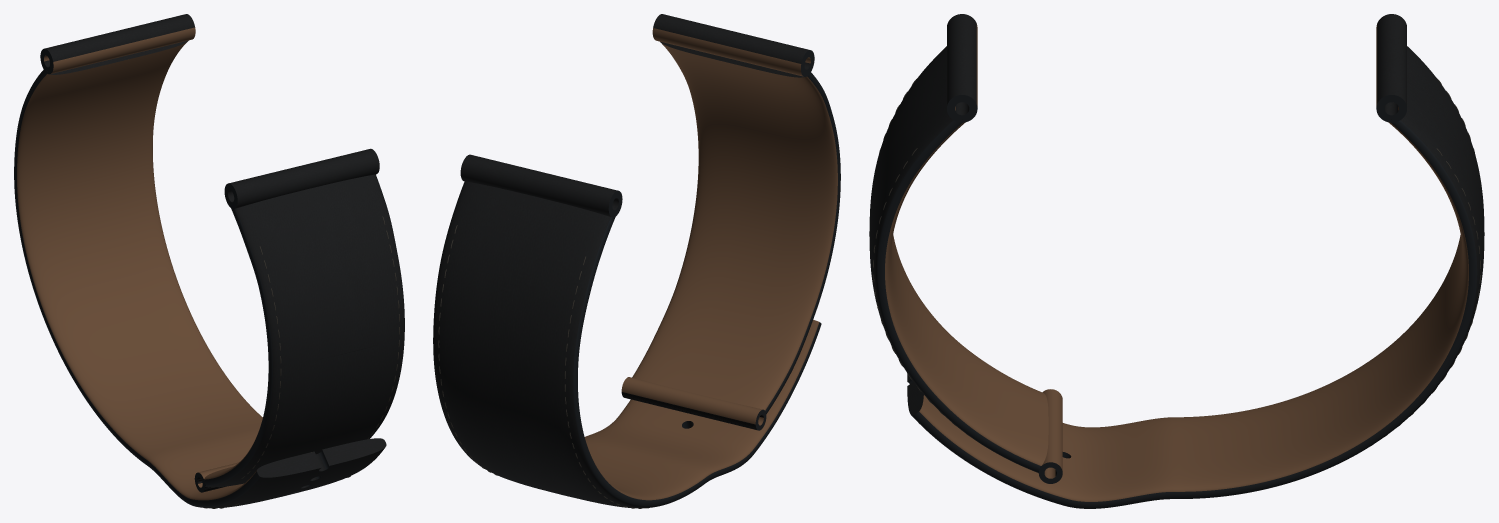
The model's file is leather-craft-r09.glb.
The picture shows the model from 3 angles, left to right: view 1: azimuth 30°, elevation 25°; view 2: azimuth 150°, elevation 25°; view 3: azimuth 270°, elevation 25°; orthographic projection. The views are drawn at different scales.
Visible parts, largest first — view 1: R05 / Upper strap · solid padded band and rolled end, R05 / Lower strap · solid padded band and rolled end, R05 / STRAP-LOWER seated stitches; view 2: R05 / Upper strap · solid padded band and rolled end, R05 / Lower strap · solid padded band and rolled end, R05 / STRAP-UPPER seated stitches; view 3: R05 / Upper strap · solid padded band and rolled end, R05 / Lower strap · solid padded band and rolled end.
Part boxes in pixels (x1,y1,x2,y2): R05 / Upper strap · solid padded band and rolled end: (14, 14, 386, 508); R05 / Lower strap · solid padded band and rolled end: (194, 148, 404, 492); R05 / STRAP-LOWER seated stitches: (241, 216, 399, 478); R05 / Upper strap · solid padded band and rolled end: (433, 154, 821, 508); R05 / Lower strap · solid padded band and rolled end: (621, 14, 840, 430); R05 / STRAP-UPPER seated stitches: (438, 225, 648, 508); R05 / Upper strap · solid padded band and rolled end: (907, 14, 1484, 508); R05 / Lower strap · solid padded band and rolled end: (869, 14, 1062, 483).
Size of the model in its own units: 20 by 48.84 by 64.14.
Materials: 7 (2 with a texture image).
